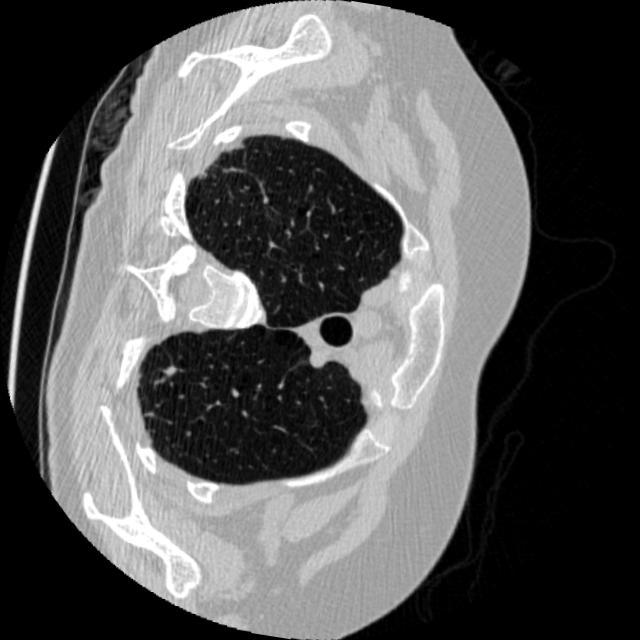nodule: (160, 356, 186, 381)
